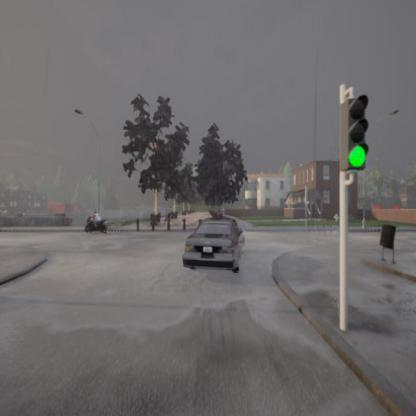motobike: (84, 215, 106, 233)
traffic_light_green: (347, 94, 369, 167)
vehicle: (182, 218, 244, 274)
